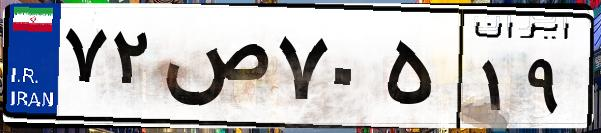0: (330, 28, 385, 110)
1: (475, 38, 525, 113)
2: (110, 28, 158, 98)
5: (385, 28, 445, 110)
7: (270, 28, 330, 110), (57, 26, 110, 100)
9: (525, 38, 570, 115)
ص: (158, 20, 270, 120)
